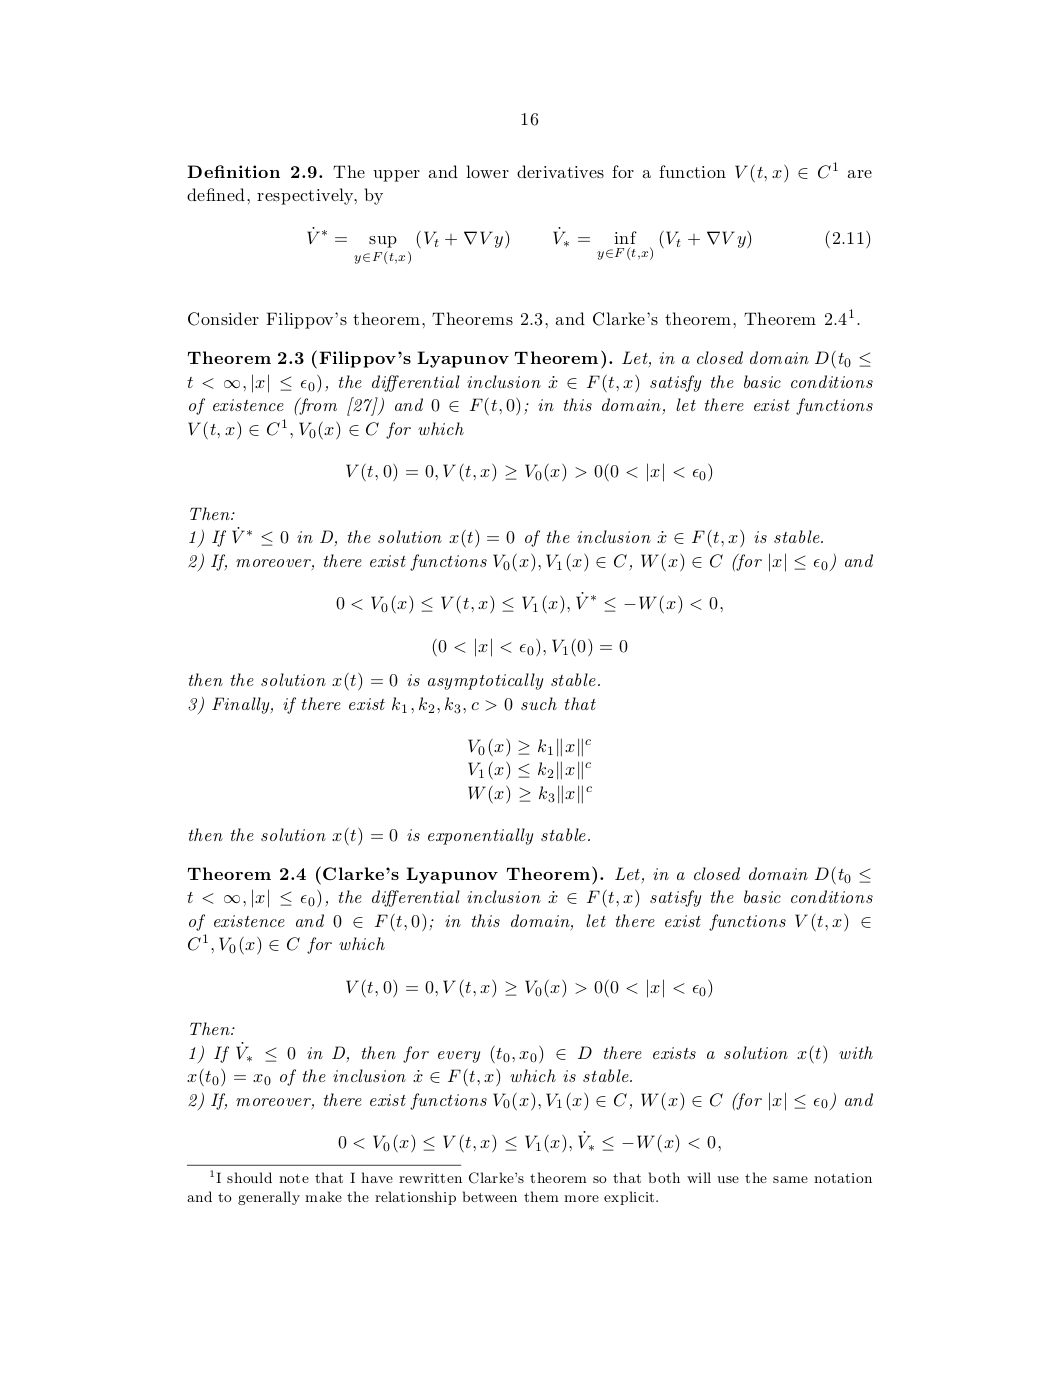figure: (187, 1163, 461, 1166)
formula: (306, 225, 870, 265), (335, 594, 722, 614), (338, 1133, 720, 1153), (345, 462, 712, 483), (345, 978, 712, 999), (432, 637, 627, 658), (468, 783, 591, 804), (468, 737, 590, 757), (468, 760, 590, 780)
